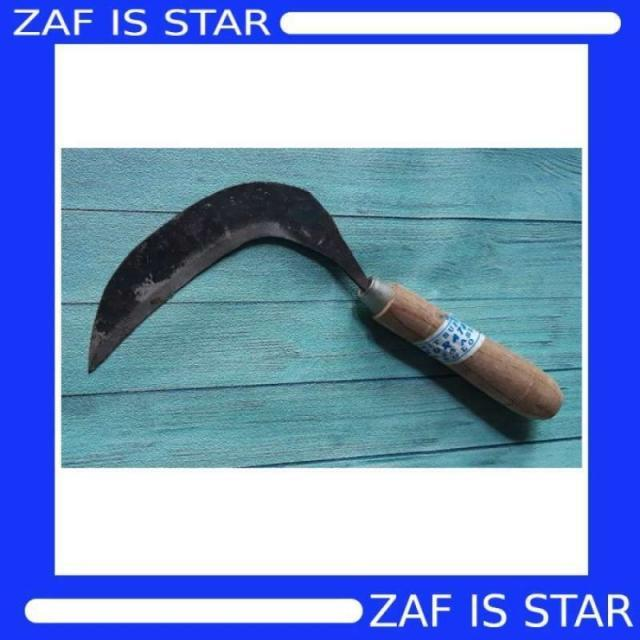machete: (86, 174, 564, 426)
